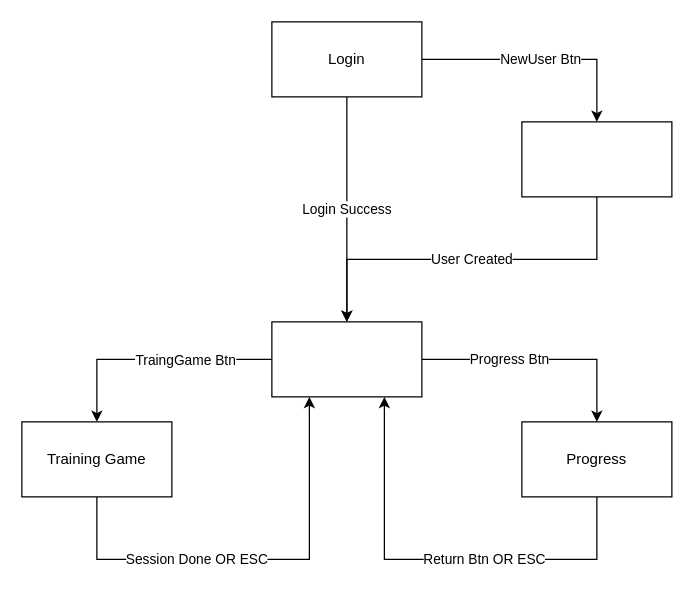
This 694x591 diagram has some shape labels left out. The shapes that lost their labels are listed below. From the top down, each one's box as (x1, y1, x2, y2) in pixels, then its label:
(521, 121, 672, 197): User Creation
(271, 321, 422, 397): Main Menu
